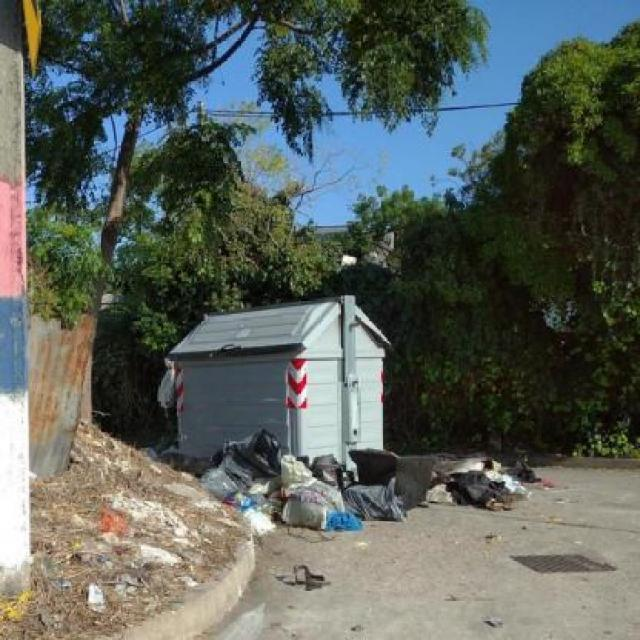garbage: (193, 429, 436, 530), (85, 437, 216, 592), (34, 475, 122, 616), (425, 446, 560, 518), (266, 551, 334, 600), (148, 357, 184, 420)
